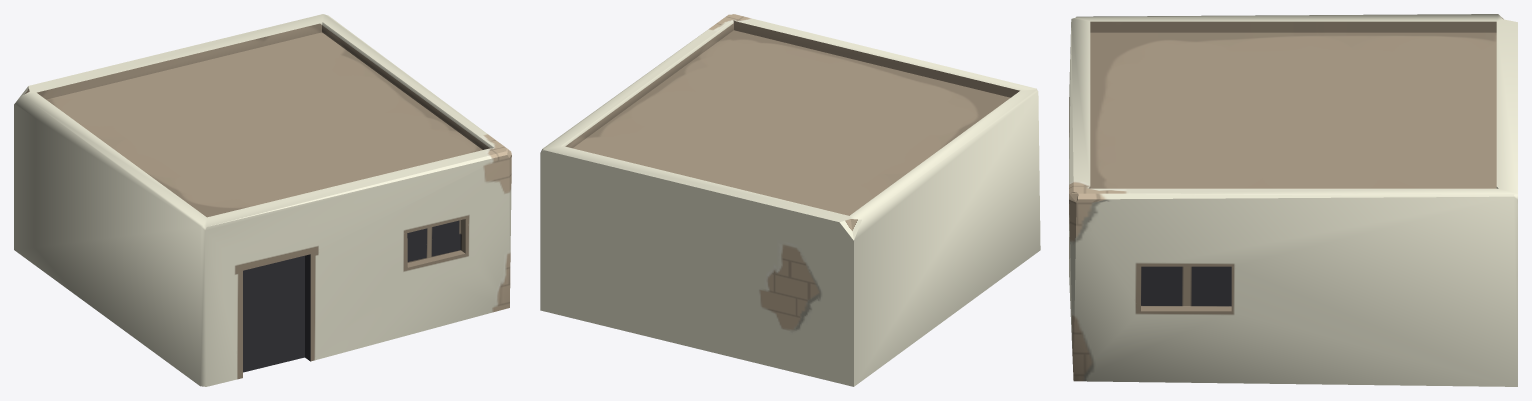
File: nNhouse3.FBX
3 views of the same model, side by side, from view 1: azimuth 30°, elevation 25°; view 2: azimuth 150°, elevation 25°; view 3: azimuth 270°, elevation 25° (orthographic). The views are drawn at different scales.
Parts seen in each view (by area): view 1: Box001; view 2: Box001; view 3: Box001.
Boxes of the visible parts, box(x1,y1,x2,y2) form: Box001: box(14, 14, 511, 386); Box001: box(540, 14, 1040, 386); Box001: box(1069, 14, 1517, 386).
Bounding box in the file's own units: 339 × 167 × 354.
